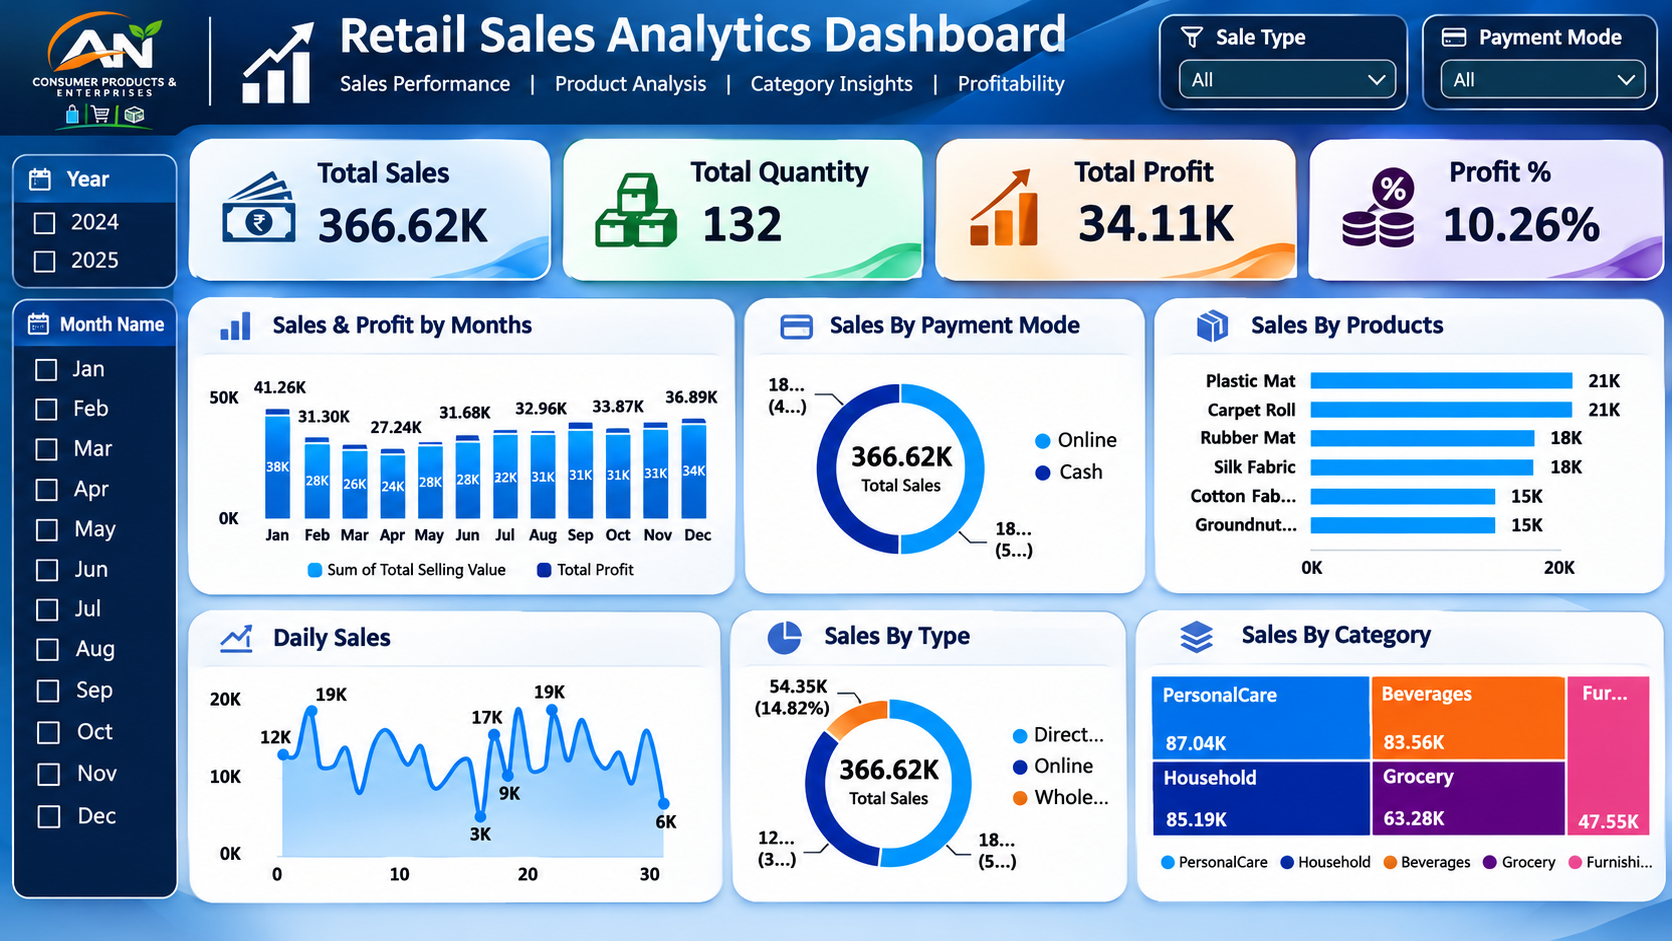

The dashboard page shown, as its layout file describes it:
{"tool":"powerbi","page":{"name":"Page 1","canvas":[1280,720],"ordinal":0},"visuals":[{"type":"shape","box":[0,0,107,90],"z":0},{"type":"image","box":[0,0,107,90],"z":1000},{"type":"textbox","box":[116.2,0,758,90],"z":2000},{"type":"image","box":[142.5,7.5,83.8,73.8],"z":3000},{"type":"slicer","fields":{"Values":["InputData.Year"]},"box":[0,105.7,107.1,110],"z":4000},{"type":"slicer","fields":{"Values":["InputData.Month Name"]},"box":[0,228.6,110,491.4],"z":5000},{"type":"slicer","fields":{"Values":["InputData.SALE TYPE"]},"box":[890,0,185,89],"z":6000},{"type":"slicer","fields":{"Values":["InputData.PAYMENT MODE"]},"box":[1091.7,0,185,89],"z":7000},{"type":"cardVisual","fields":{"Data":["Sum(InputData.Total Selling Value)"]},"box":[116.7,105,276,109],"z":8000},{"type":"cardVisual","fields":{"Data":["Sum(InputData.QUANTITY)"]},"box":[410,105,276,109],"z":9000},{"type":"cardVisual","fields":{"Data":["InputData.Profit %"]},"box":[1000,105,276,109],"z":10000},{"type":"cardVisual","fields":{"Data":["InputData.Total Profit"]},"box":[707.1,105.7,276,109],"z":11000},{"type":"image","box":[116.7,120,68.3,81.7],"z":12000},{"type":"image","box":[410,120,71.7,101.7],"z":13000},{"type":"image","box":[706.7,101.7,78.3,120],"z":14000},{"type":"image","box":[1000,111.7,75,96.7],"z":15000},{"type":"columnChart","title":"Sales & Profit by months","fields":{"Category":["InputData.Month Name"],"Y":["Sum(InputData.Total Selling Value)","InputData.Total Profit"]},"box":[116.7,223.3,446.7,245],"z":15001},{"type":"areaChart","title":"Daily Sales","fields":{"Category":["InputData.Day"],"Y":["Sum(InputData.Total Selling Value)"]},"box":[116.7,490,446,215],"z":15002},{"type":"clusteredBarChart","title":"Sales By Products","fields":{"Category":["InputData.MasterData.PRODUCT"],"Y":["Sum(InputData.Total Selling Value)"]},"box":[839,219,431,245],"z":15003},{"type":"treemap","title":"Sales By Category","fields":{"Group":["InputData.MasterData.CATEGORY"],"Values":["Sum(InputData.Total Selling Value)"]},"box":[839,474,431,235],"z":15004},{"type":"donutChart","title":"Sales By Type","fields":{"Category":["InputData.SALE TYPE"],"Y":["Sum(InputData.Total Selling Value)"]},"box":[570,482,260,223],"z":15005},{"type":"donutChart","title":"Sales By Payment Mode","fields":{"Category":["InputData.PAYMENT MODE"],"Y":["Sum(InputData.Total Selling Value)"]},"box":[570,221.7,260,245],"z":15006}]}

Visuals, with their boxes in screenshot pixels (x1, y1, x2, y2), scaled from the page's 1280x720 canvas onto the 1672x941 screenshot:
shape: 0/0/140/118
image: 0/0/140/118
textbox: 152/0/1142/118
image: 186/10/296/106
slicer - InputData.Year: 0/138/140/282
slicer - InputData.Month Name: 0/299/144/940
slicer - InputData.SALE TYPE: 1163/0/1404/116
slicer - InputData.PAYMENT MODE: 1426/0/1668/116
cardVisual - Sum(InputData.Total Selling Value): 152/137/513/280
cardVisual - Sum(InputData.QUANTITY): 536/137/896/280
cardVisual - InputData.Profit %: 1306/137/1667/280
cardVisual - InputData.Total Profit: 924/138/1284/281
image: 152/157/242/264
image: 536/157/629/290
image: 923/133/1025/290
image: 1306/146/1404/272
"Sales & Profit by months" columnChart: 152/292/736/612
"Daily Sales" areaChart: 152/640/735/921
"Sales By Products" clusteredBarChart: 1096/286/1659/606
"Sales By Category" treemap: 1096/619/1659/927
"Sales By Type" donutChart: 745/630/1084/921
"Sales By Payment Mode" donutChart: 745/290/1084/610
